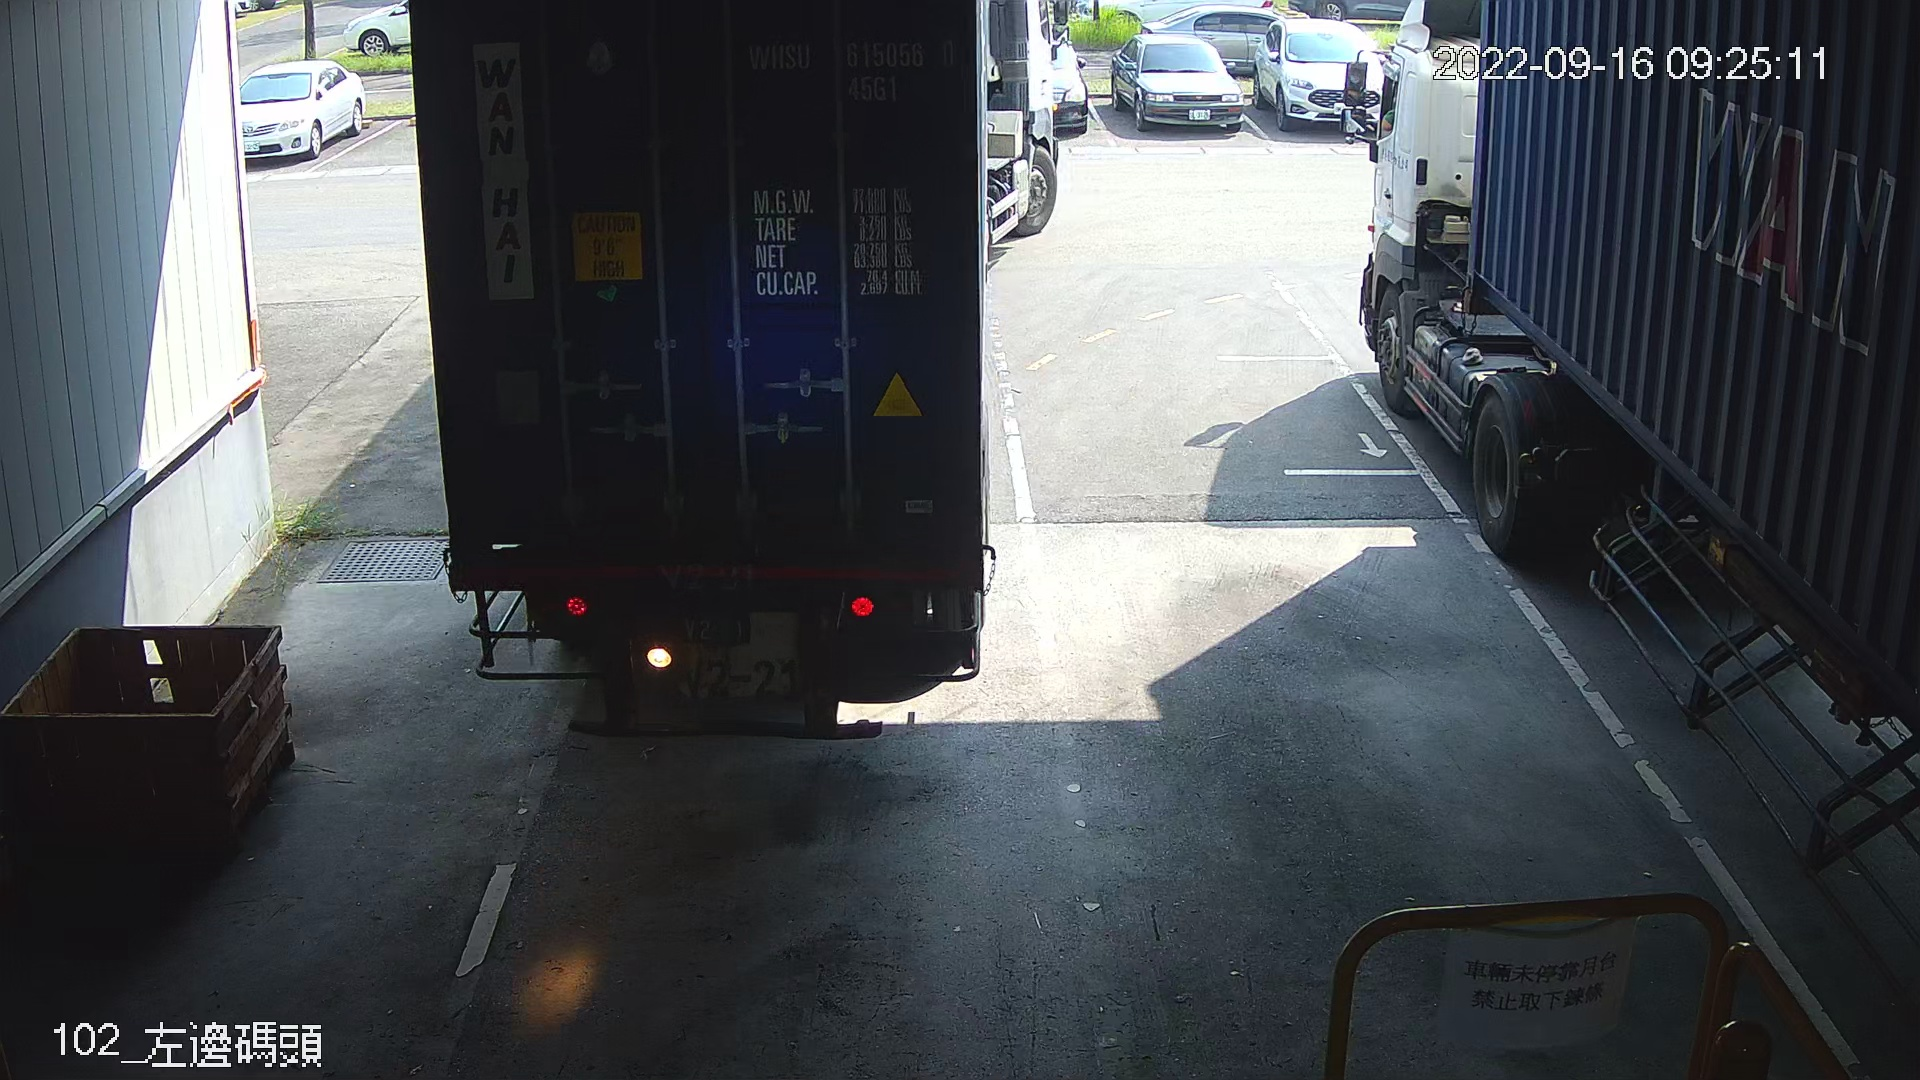container: (738, 26, 969, 109)
